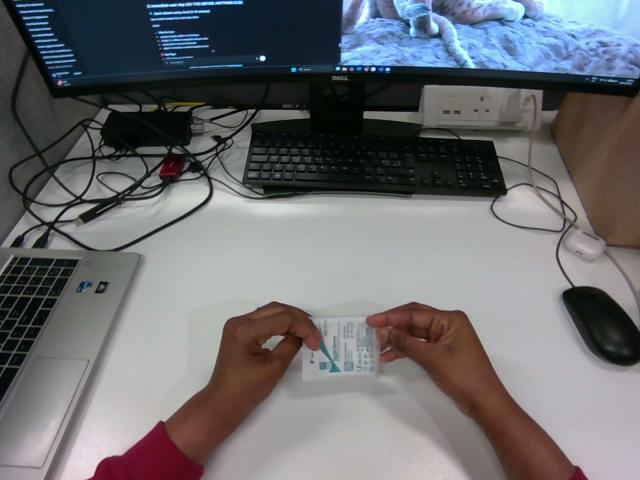gauze: (302, 316, 379, 380)
